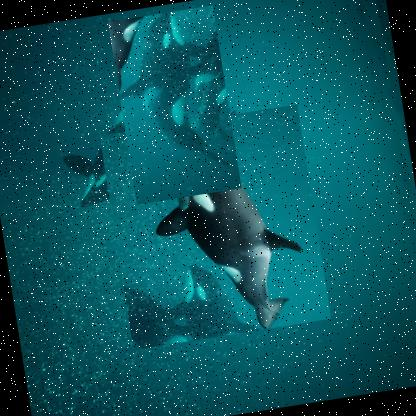killer_whale: (97, 103, 330, 350), (106, 3, 240, 204)
